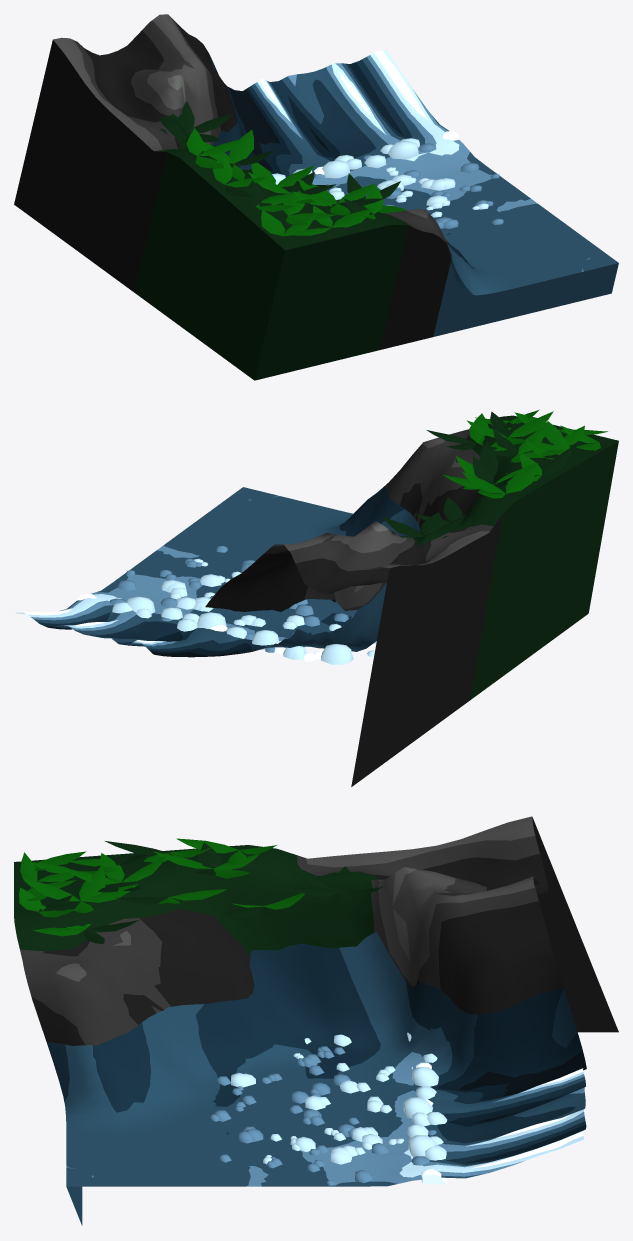
Rendered from torm_fall_bl_157.glb.
3 renders of one model, top to bottom at view 1: azimuth 30°, elevation 25°; view 2: azimuth 150°, elevation 25°; view 3: azimuth 270°, elevation 25°, orthographic. The views are drawn at different scales.
Parts seen in each view (by area): view 1: torm_fall_bl_157; view 2: torm_fall_bl_157; view 3: torm_fall_bl_157.
Boxes of the visible parts, x1,y1,x2,y2 form: torm_fall_bl_157: (14, 14, 618, 380); torm_fall_bl_157: (16, 409, 618, 786); torm_fall_bl_157: (14, 816, 618, 1225).
Size of the model in its own units: 24 by 12.43 by 31.57.
